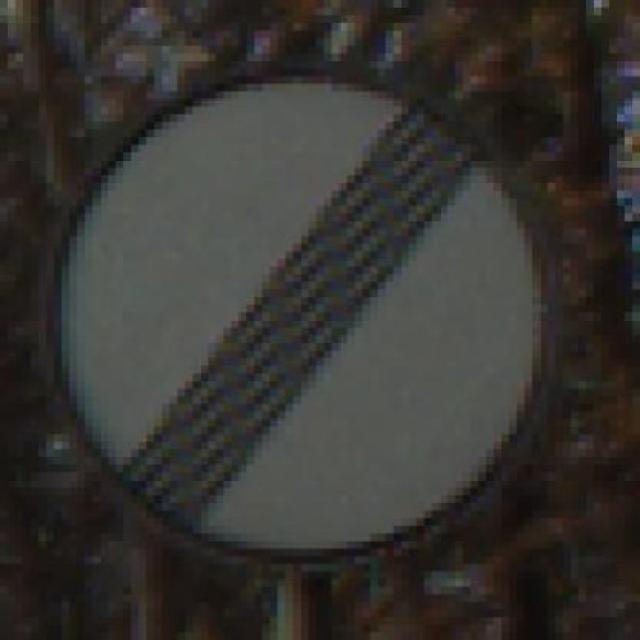End of all speed and passing limits: (31, 61, 571, 579)
